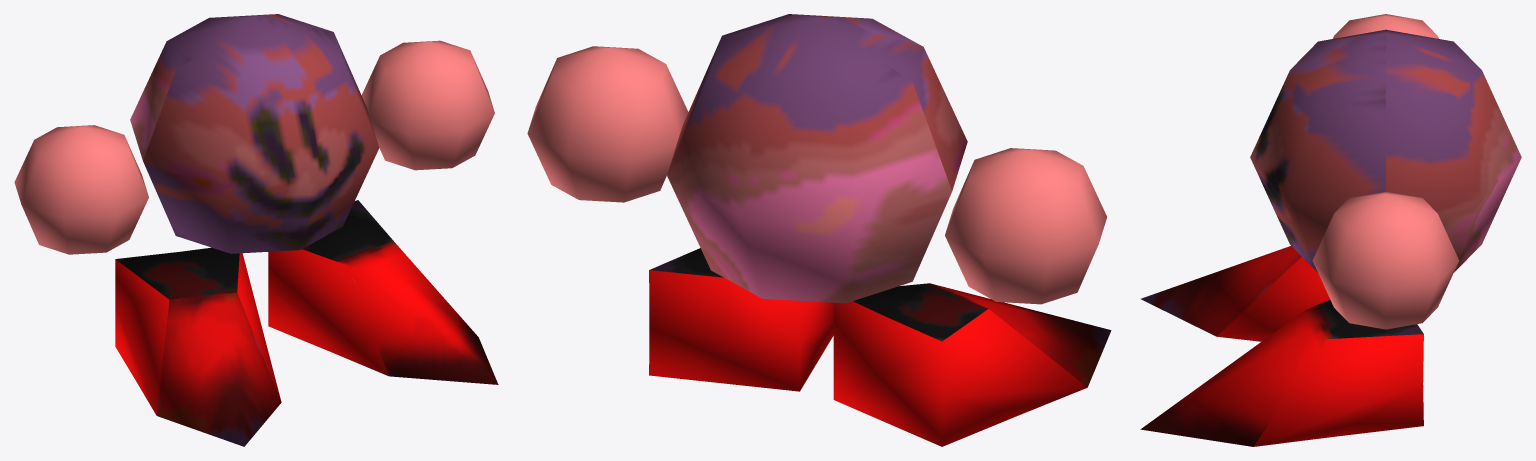
File: bloob.obj
The picture shows the model from 3 angles, left to right: view 1: azimuth 30°, elevation 25°; view 2: azimuth 150°, elevation 25°; view 3: azimuth 270°, elevation 25°; orthographic projection. The views are drawn at different scales.
Visible parts, largest first — view 1: meat; view 2: meat; view 3: meat.
Boxes of the visible parts, box(x1,y1,x2,y2) form: meat: box(14, 14, 498, 446); meat: box(527, 14, 1111, 446); meat: box(1140, 14, 1521, 446).
Bounding box in the file's own units: 4.18 × 2.68 × 2.81.
